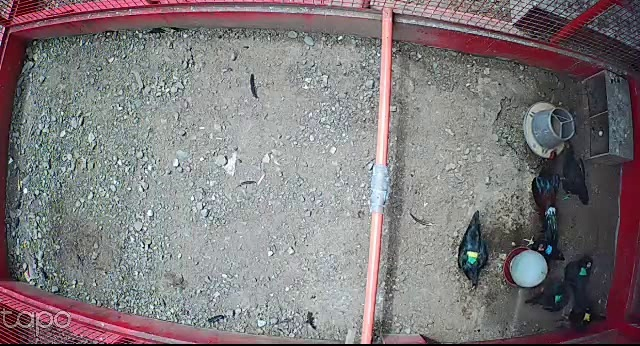Chicken: (455, 211, 489, 292), (550, 152, 594, 211), (561, 257, 595, 312), (519, 279, 572, 314), (521, 230, 568, 264), (560, 304, 613, 332)
Drinker: (502, 247, 550, 289)
Feeder: (525, 101, 576, 159)
Rooster: (528, 153, 564, 256)
Saddle_Color_Blue: (545, 245, 553, 254)
Saddle_Color_Yellow: (582, 313, 592, 321)
Saddle_Color_YellowGreen: (465, 249, 479, 266)
